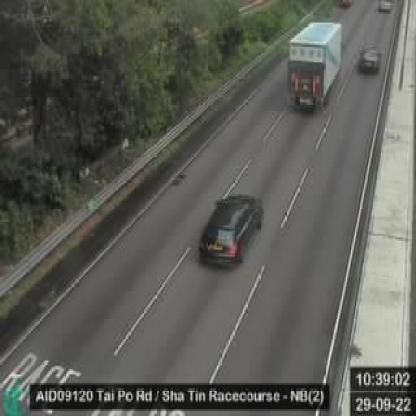Car: (192, 185, 268, 268), (355, 38, 382, 75), (376, 0, 398, 12)
Truck: (284, 21, 348, 118)
